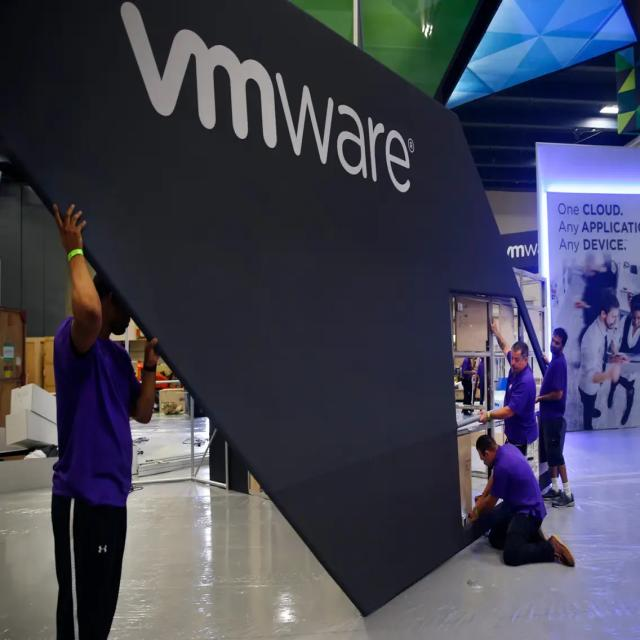vmware: (120, 0, 283, 150)
